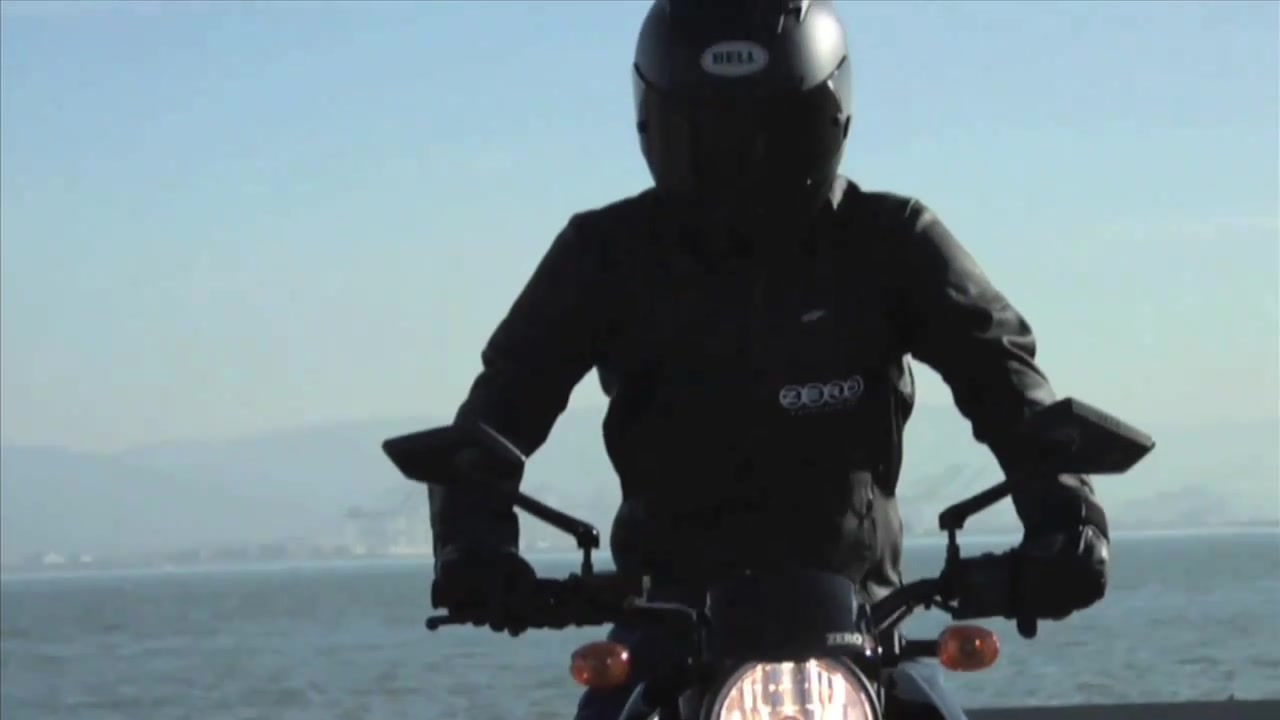motorbike: (384, 397, 1157, 720)
